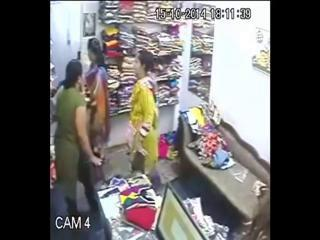Normal: (51, 60, 110, 235), (127, 50, 161, 186), (84, 38, 111, 148)
